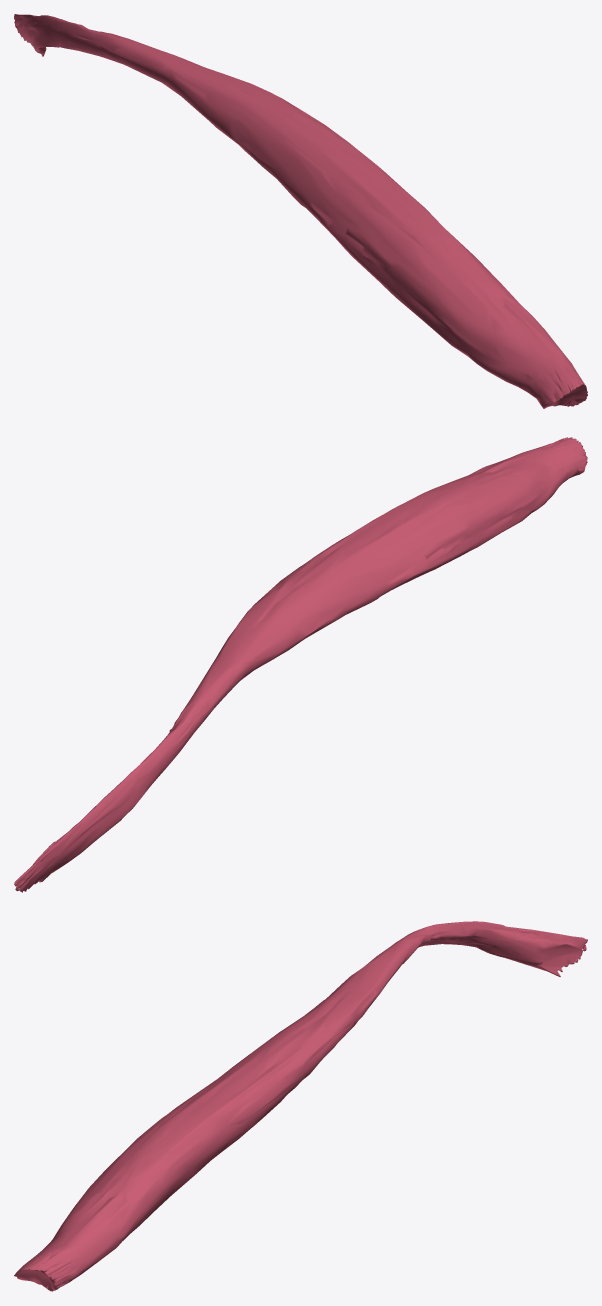
3 renders of one model, top to bottom at view 1: azimuth 30°, elevation 25°; view 2: azimuth 150°, elevation 25°; view 3: azimuth 330°, elevation 25°, orthographic. The views are drawn at different scales.
Visible parts, largest first — view 1: 左侧半腱肌; view 2: 左侧半腱肌; view 3: 左侧半腱肌.
Part boxes in pixels (x1,y1,x2,y2): 左侧半腱肌: (14, 14, 587, 408); 左侧半腱肌: (14, 437, 587, 892); 左侧半腱肌: (14, 921, 587, 1291).
Size of the model in its own units: 0.053 by 0.0858 by 0.6777.
